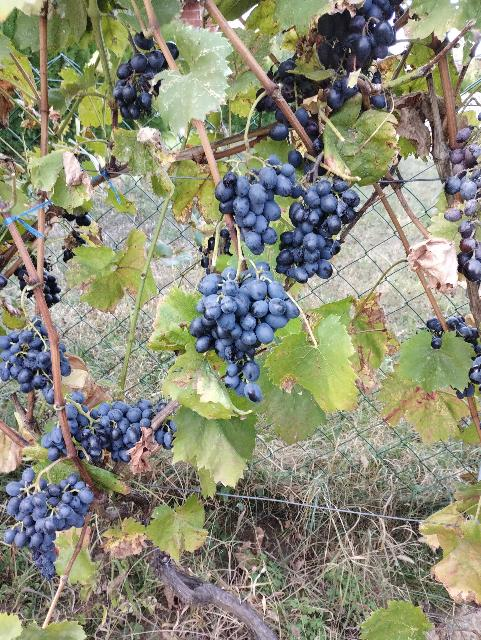grapes: (190, 261, 300, 402), (4, 468, 94, 580), (276, 176, 360, 284), (65, 391, 178, 464), (232, 155, 302, 255), (112, 32, 168, 120), (0, 316, 54, 404), (41, 424, 68, 461)
